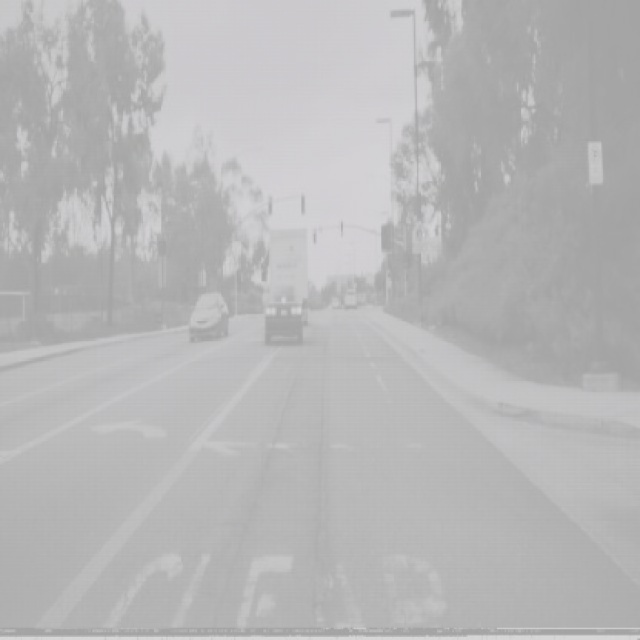school: (411, 217, 426, 245)
